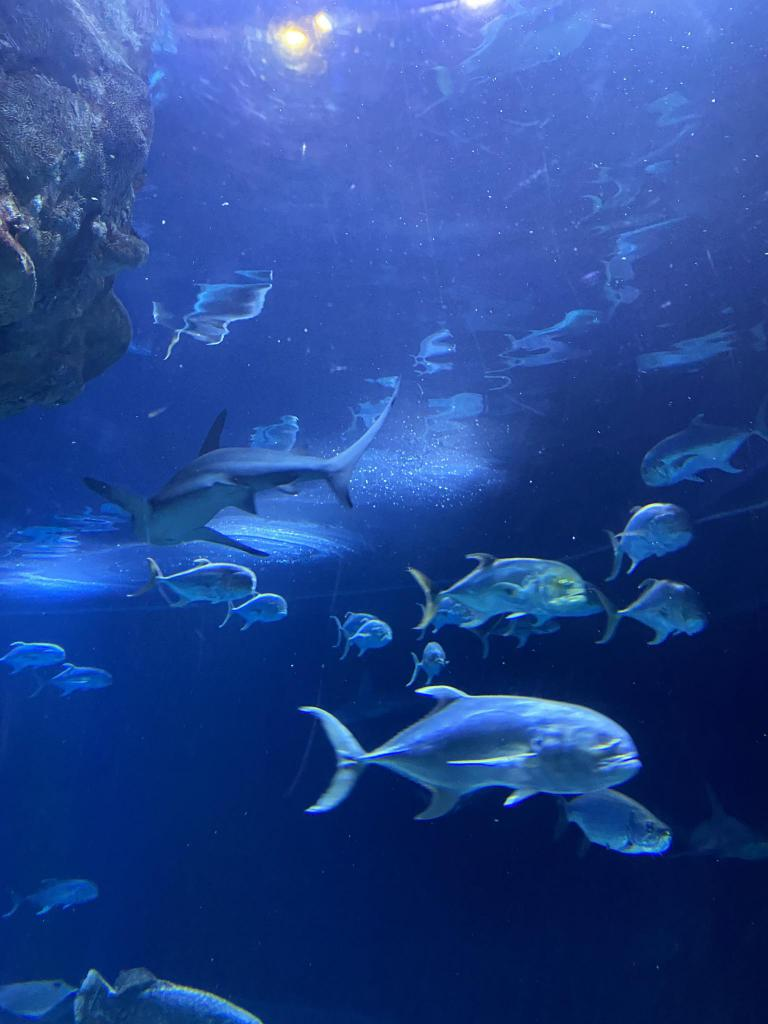fish: (298, 684, 642, 822), (411, 552, 581, 624), (73, 968, 263, 1024), (639, 410, 767, 490), (466, 583, 604, 647), (551, 783, 671, 855), (599, 578, 703, 644), (605, 504, 691, 570), (140, 557, 254, 603), (2, 878, 98, 920), (335, 610, 391, 658), (33, 660, 109, 694), (218, 594, 288, 628), (0, 642, 64, 676), (409, 642, 445, 682)
shark: (80, 394, 395, 556), (669, 790, 767, 862)
stingray: (0, 979, 79, 1024)
